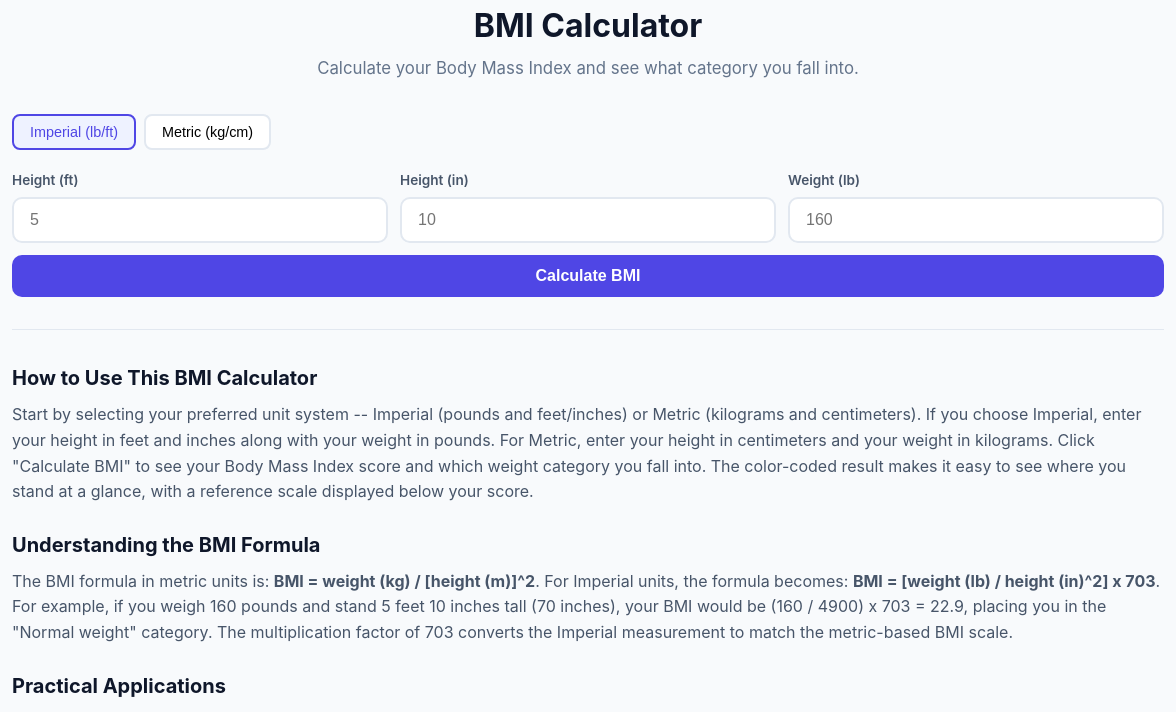
Scenario: BmiCalculator › switches to metric inputs
The image size is (1176, 712).
What coordinates should you click on to do the following:
click the button "Metric (kg/cm)"
I would click on:
 (208, 132)
Its box is [144,114,271,150].
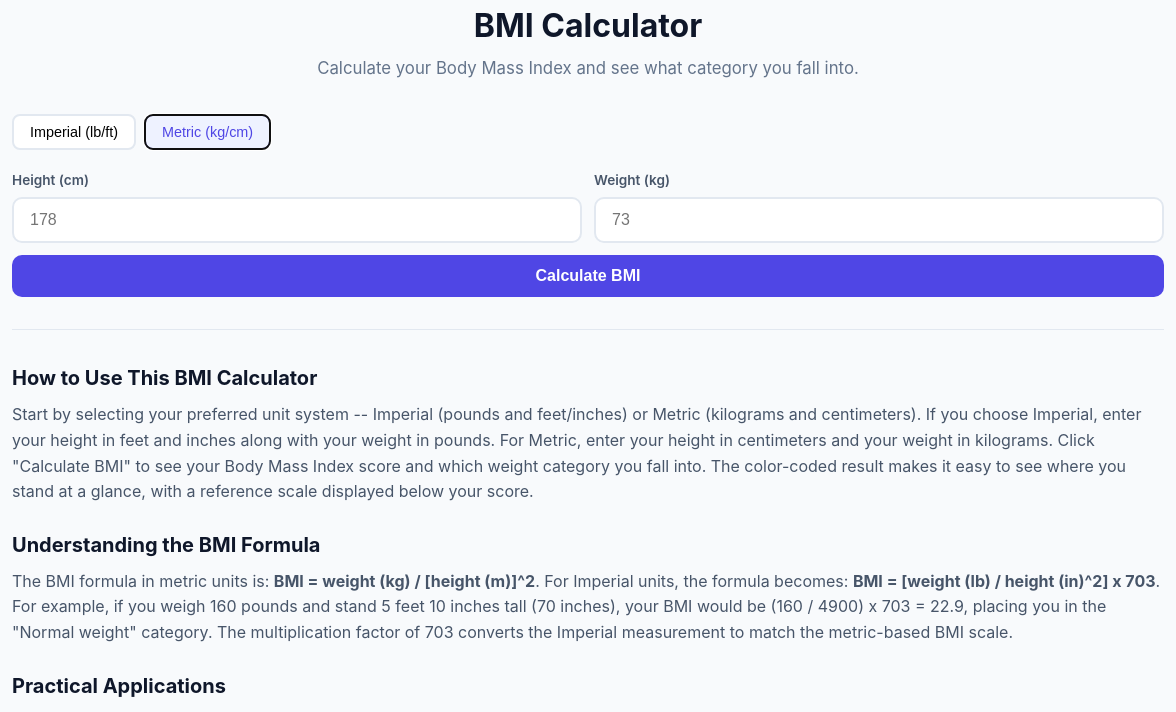
Expected: the text "Height (cm)" is shown, [12,172,89,188]
Expected: the text "Weight (kg)" is shown, [594,172,670,188]
